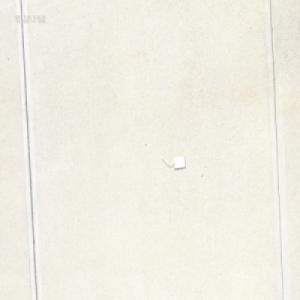LuggageTag: (160, 153, 186, 170)
